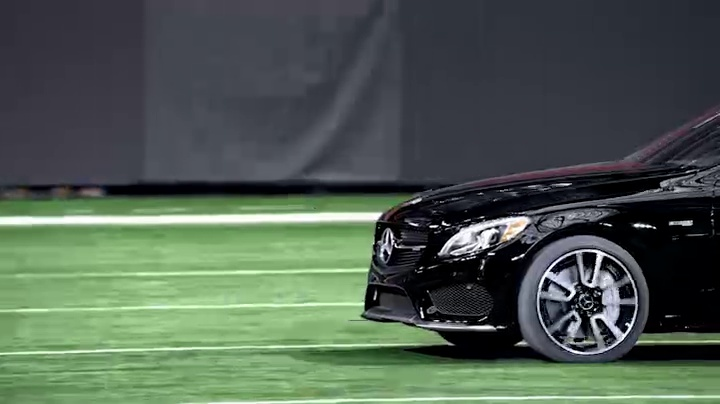amg: (361, 99, 720, 362)
